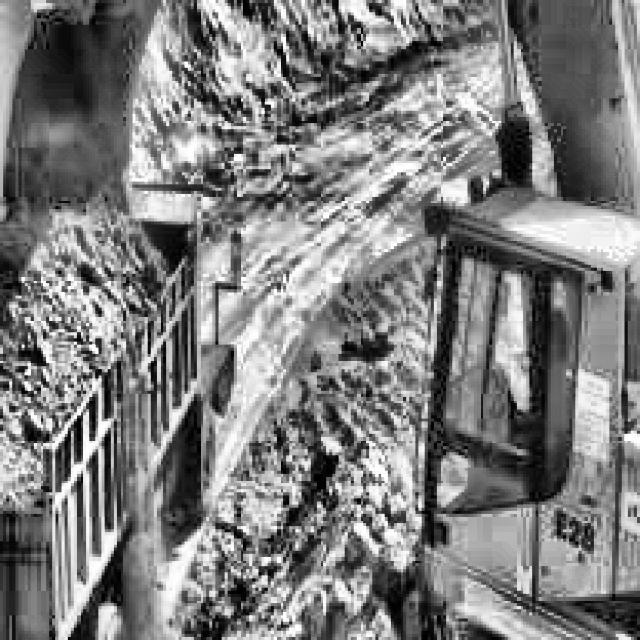dump_truck: (0, 144, 240, 640)
excavator: (0, 0, 640, 640)
